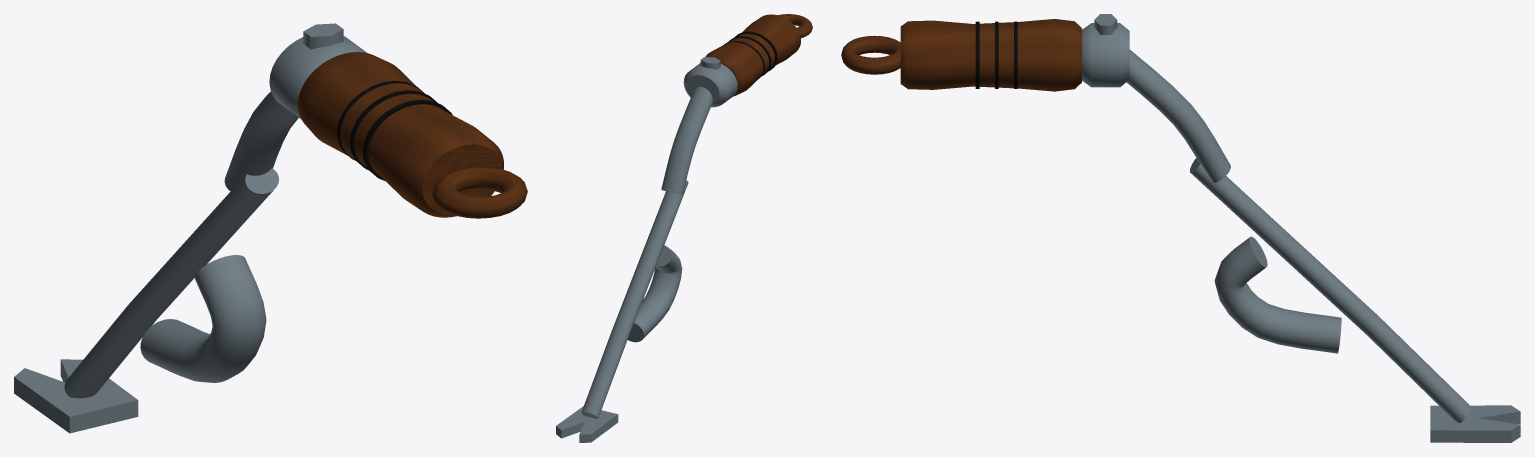
File: DandelionWeeder.gltf
3 renders of one model, left to right at view 1: azimuth 30°, elevation 25°; view 2: azimuth 150°, elevation 25°; view 3: azimuth 270°, elevation 25°, orthographic. The views are drawn at different scales.
Parts seen in each view (by area): view 1: DandelionWeeder__Body; view 2: DandelionWeeder__Body; view 3: DandelionWeeder__Body.
Boxes of the visible parts, x1,y1,x2,y2 form: DandelionWeeder__Body: [14, 23, 527, 433]; DandelionWeeder__Body: [556, 14, 812, 442]; DandelionWeeder__Body: [841, 14, 1520, 442].
Bounding box in the file's own units: 0.0465 × 0.2466 × 0.37.
1 material, 1 textured.
